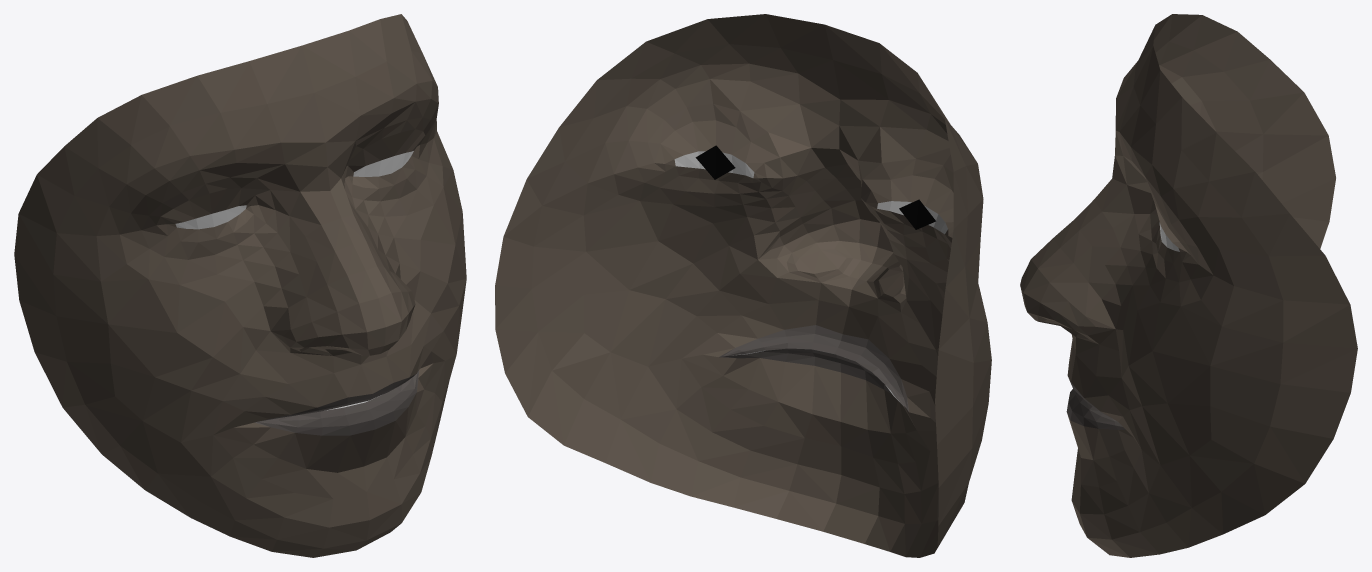
Rendered from tearsofjoy2.obj.
3 renders of one model, left to right at view 1: azimuth 30°, elevation 25°; view 2: azimuth 150°, elevation 25°; view 3: azimuth 270°, elevation 25°, orthographic. The views are drawn at different scales.
Visible parts, largest first — view 1: face_model_with_iris; view 2: face_model_with_iris; view 3: face_model_with_iris.
Boxes of the visible parts, x1,y1,x2,y2 form: face_model_with_iris: (14,14,466,557); face_model_with_iris: (495,14,991,557); face_model_with_iris: (1020,14,1357,557).
Size of the model in its own units: 0.6385 by 0.7533 by 0.4776.
